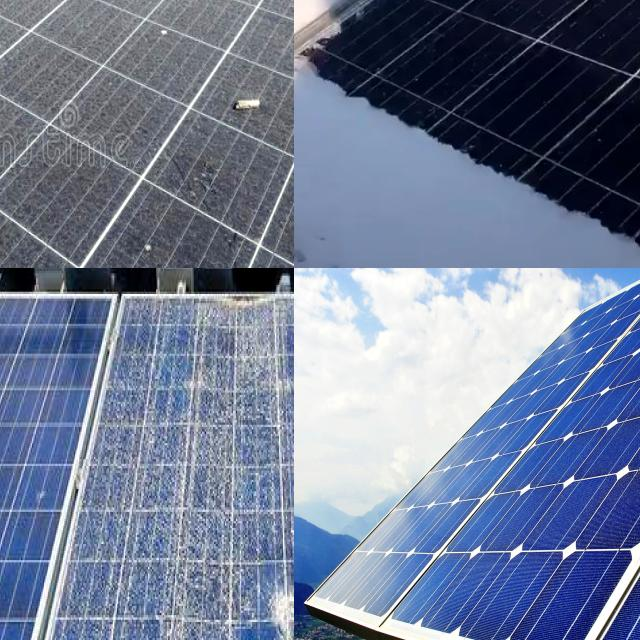crack: (428, 543, 631, 640), (584, 543, 640, 640)
dust: (41, 21, 200, 156), (0, 181, 196, 256), (0, 0, 62, 189), (225, 126, 294, 268), (42, 0, 189, 54), (0, 69, 53, 195), (232, 0, 294, 96), (0, 0, 61, 81), (218, 74, 287, 131), (0, 0, 55, 53)
hotspot: (251, 563, 294, 640)
panel: (294, 41, 640, 268), (318, 0, 516, 73), (363, 0, 624, 39), (503, 0, 640, 28), (367, 0, 516, 16)
